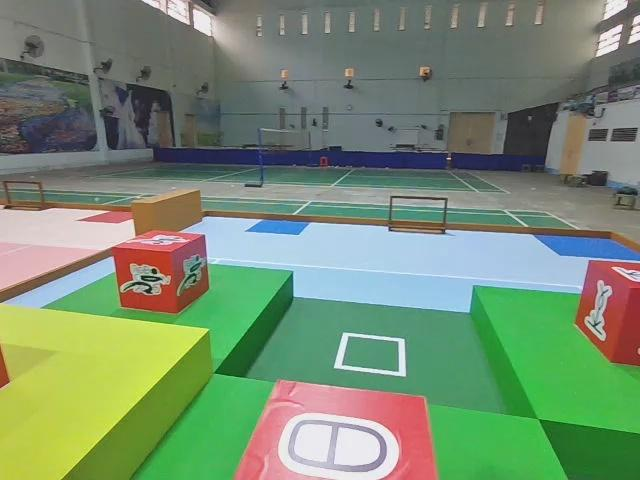R1: (112, 228, 211, 315)
R2 Fake: (229, 375, 440, 480)
R2 Real: (572, 257, 640, 370)
